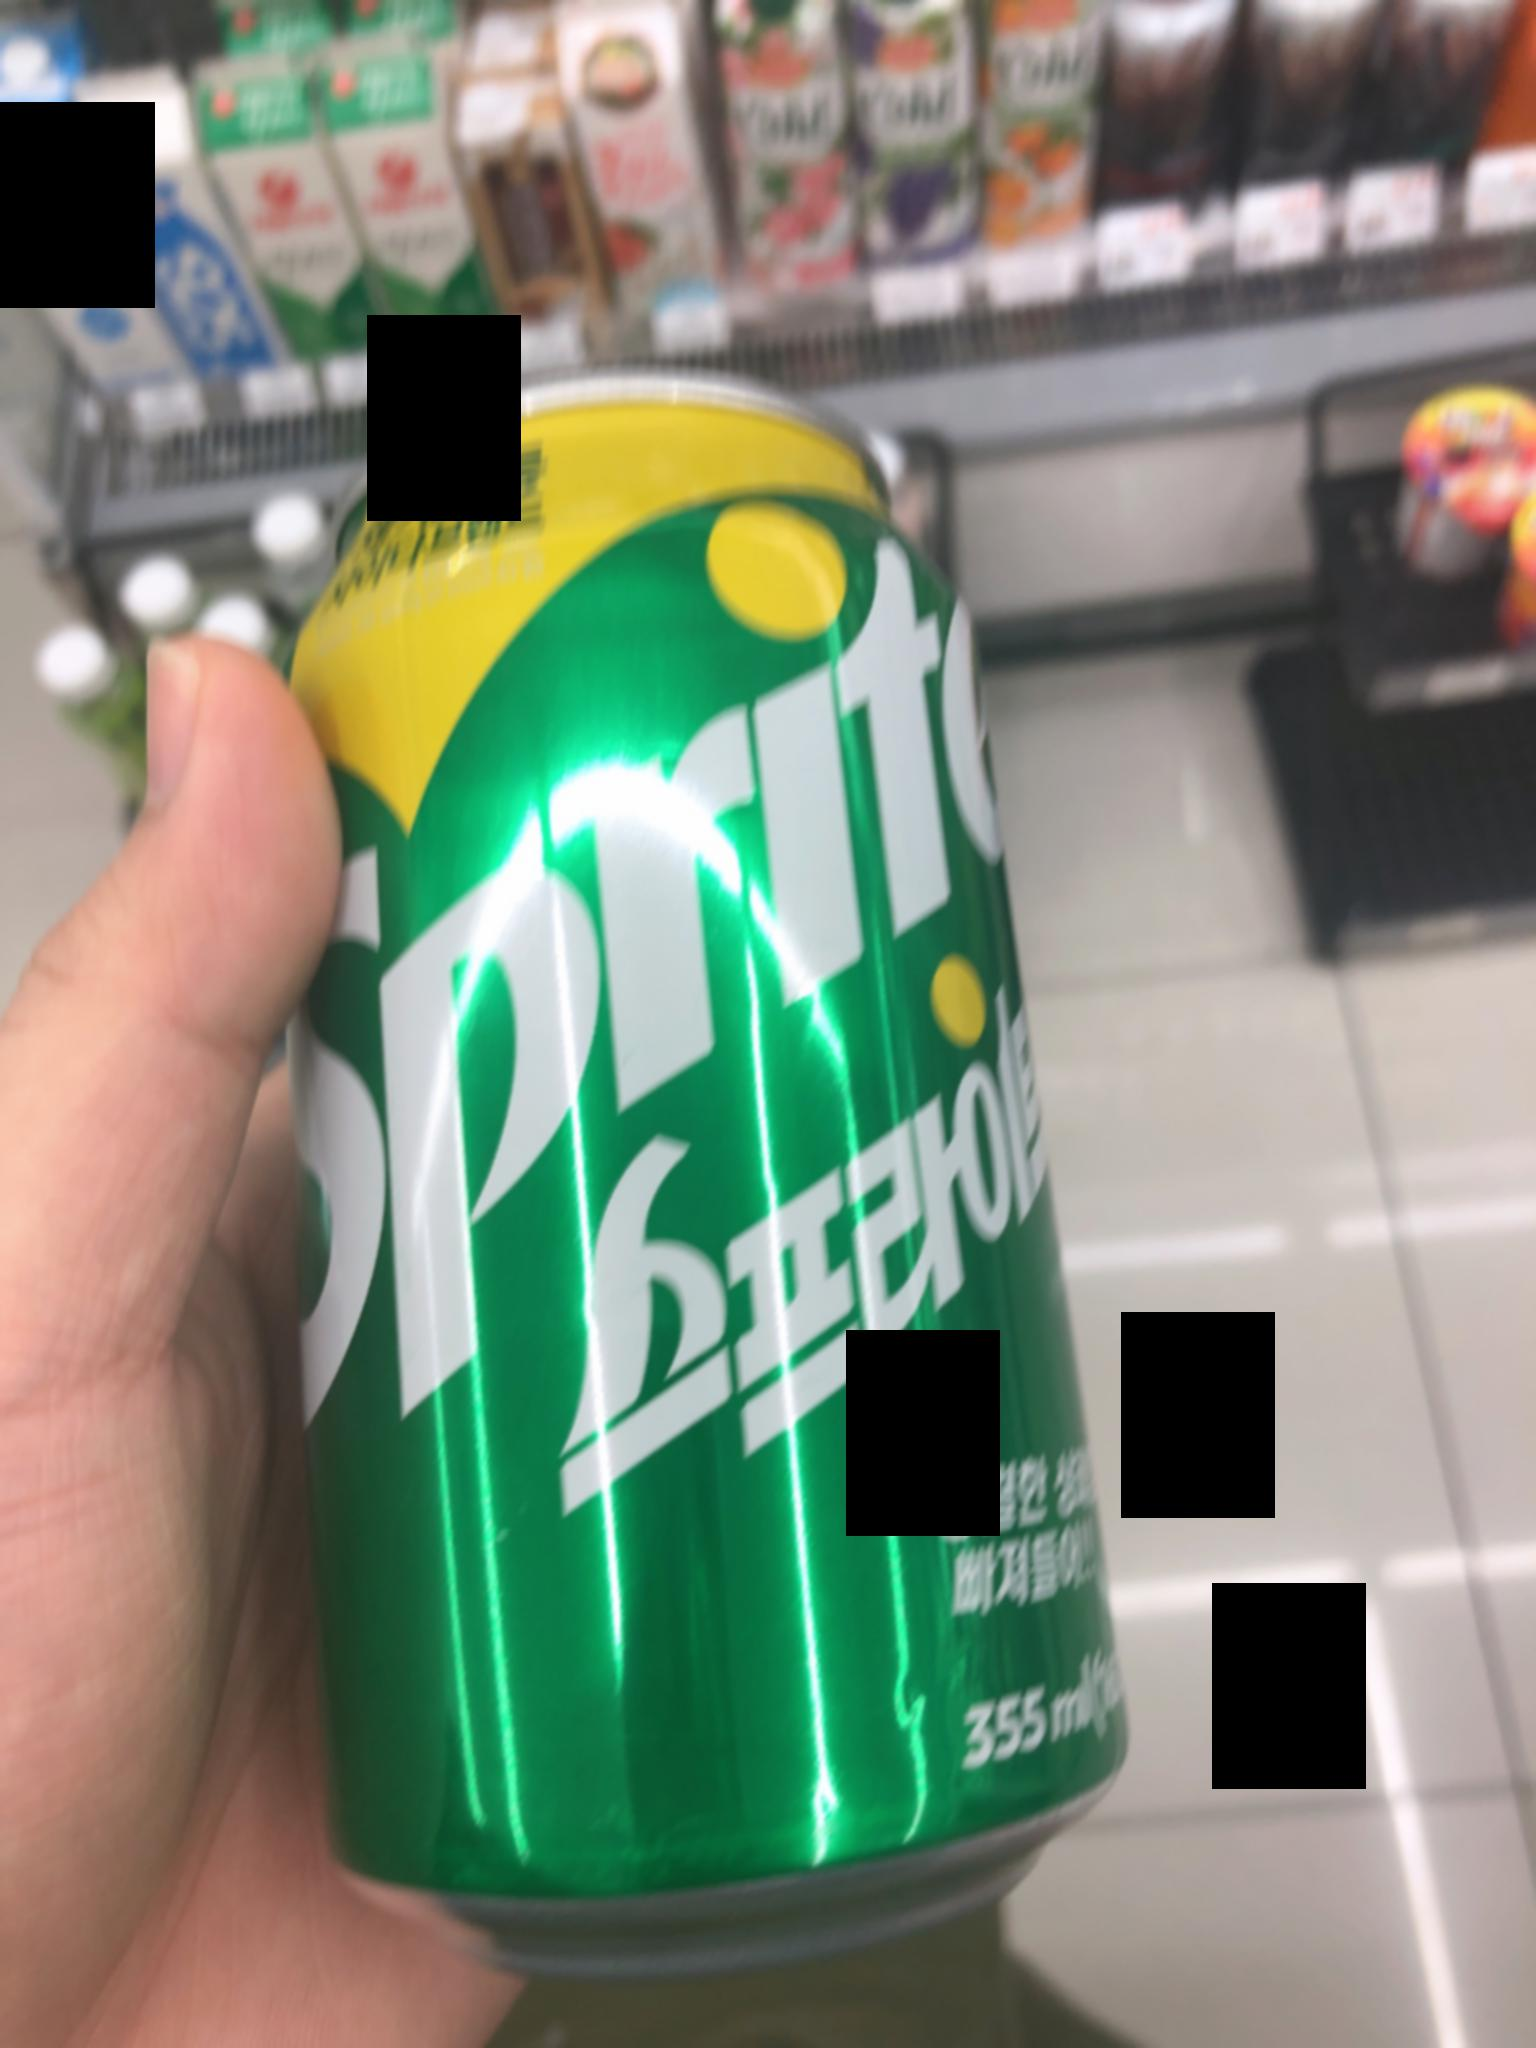sprite: (166, 327, 1175, 1969)
